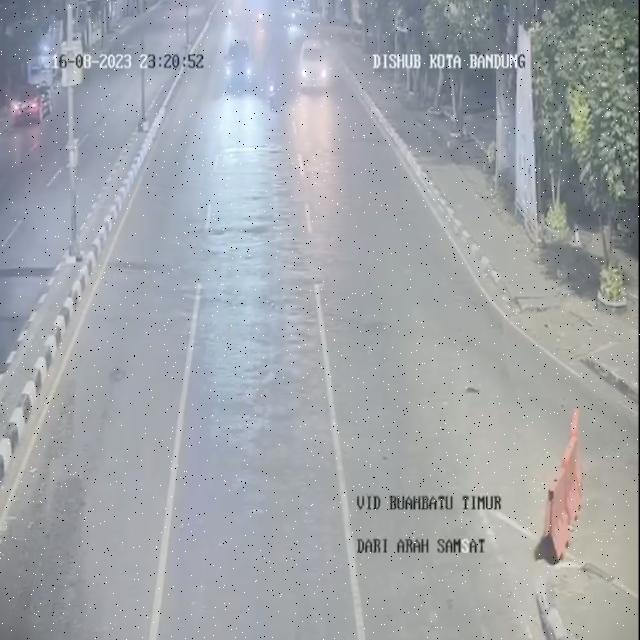cars: (294, 32, 333, 95), (227, 34, 257, 100)
